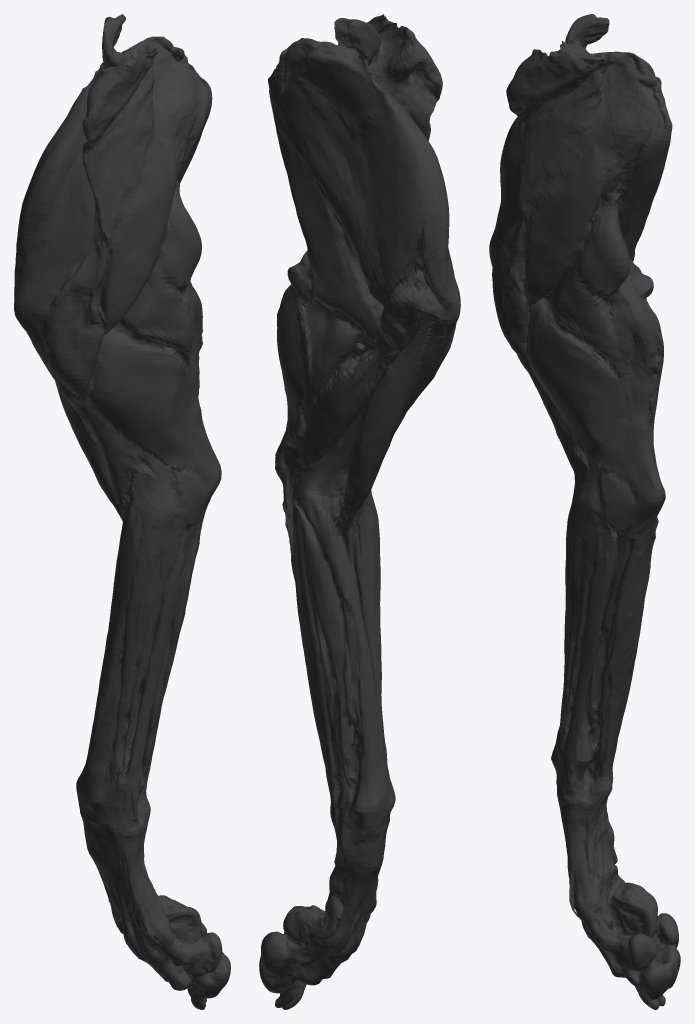
Rendered from 22_4_4_k9_fl_musc_scan2_shells_4.glb.
3 renders of one model, left to right at view 1: azimuth 30°, elevation 25°; view 2: azimuth 150°, elevation 25°; view 3: azimuth 330°, elevation 25°, orthographic. The views are drawn at different scales.
Visible parts, largest first — view 1: 22_4_4_k9_fl_musc_scan2_shells_4; view 2: 22_4_4_k9_fl_musc_scan2_shells_4; view 3: 22_4_4_k9_fl_musc_scan2_shells_4.
Part boxes in pixels (x1,y1,x2,y2): 22_4_4_k9_fl_musc_scan2_shells_4: (14, 14, 230, 1009); 22_4_4_k9_fl_musc_scan2_shells_4: (259, 14, 460, 1009); 22_4_4_k9_fl_musc_scan2_shells_4: (489, 14, 680, 1009).
Size of the model in its own units: 0.227 by 1.08 by 0.0954.
Materials: 1 (1 with a texture image).
